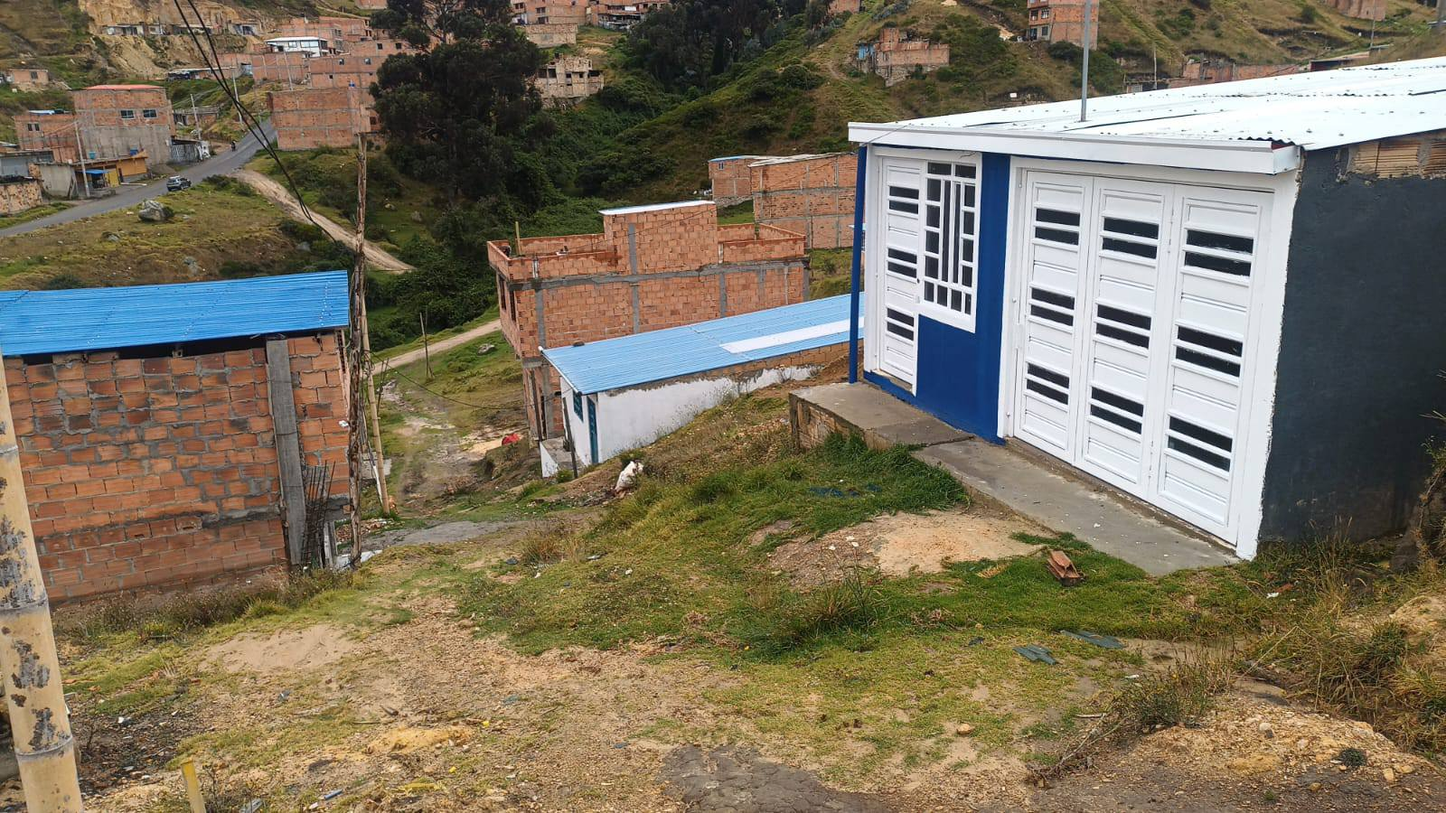House: (815, 87, 1437, 563), (51, 65, 192, 217)
